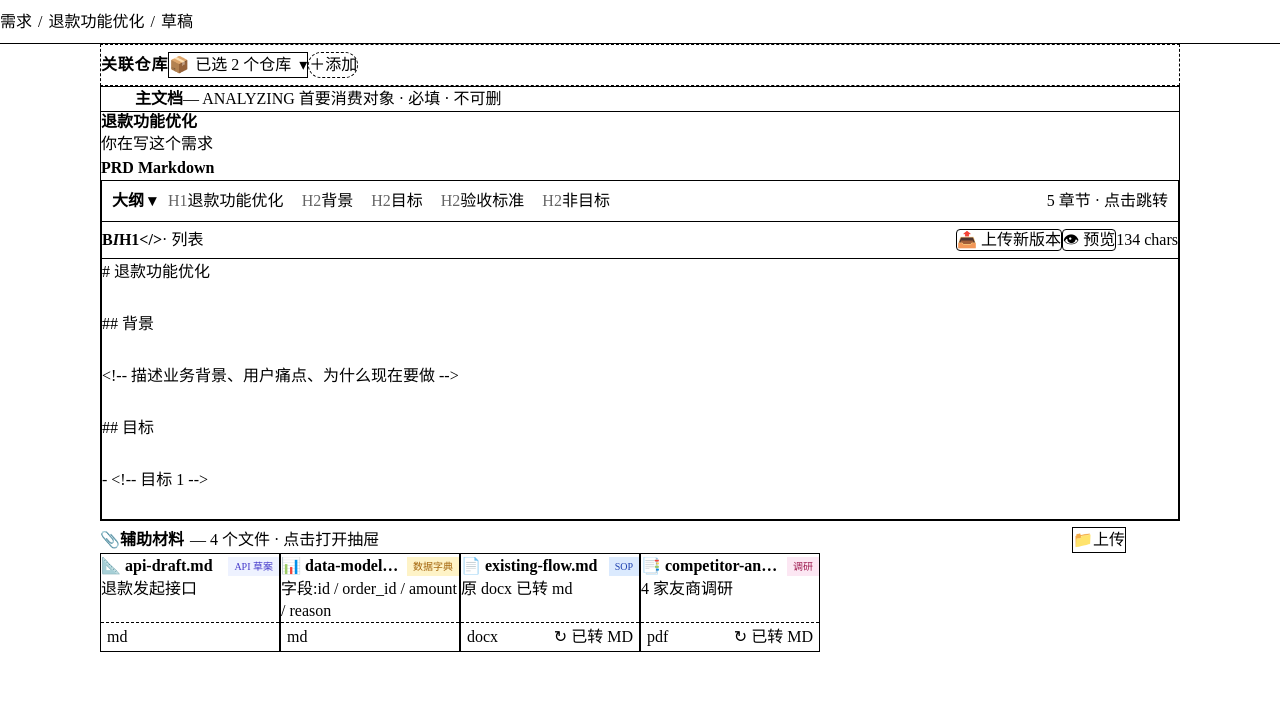
Test: DraftingZone · 辅助文件卡片 + 拖拽分割 (issue 04) › 点击卡片 → 打开 aux-drawer(issue 05 接线)
The image size is (1280, 720).
Click the button with test id "aux-card". click: (190, 602)
box: [100, 553, 280, 652]
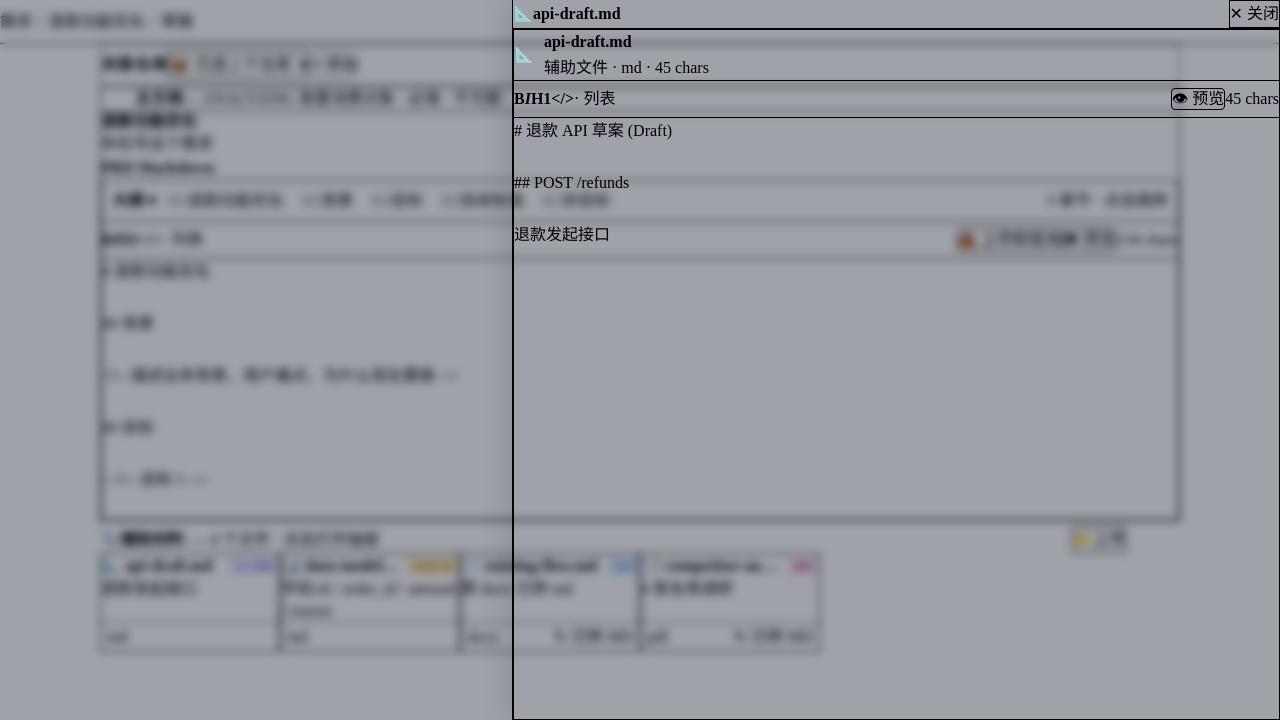
Expected: the dialog with test id "aux-drawer" is shown, [512, 0, 1279, 719]
Expected: the text with test id "aux-drawer-filename" reads "api-draft.md", [544, 33, 632, 50]
